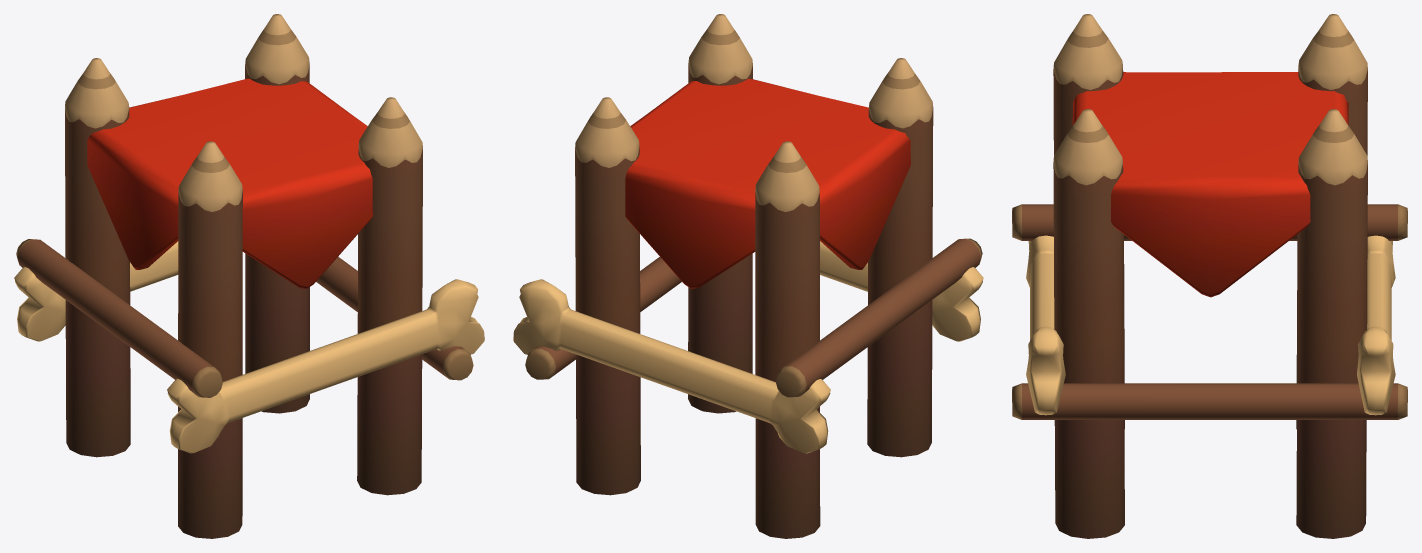
File: Stage_1.fbx
3 renders of one model, left to right at view 1: azimuth 30°, elevation 25°; view 2: azimuth 150°, elevation 25°; view 3: azimuth 270°, elevation 25°, orthographic. The views are drawn at different scales.
Visible parts, largest first — view 1: Stage_1; view 2: Stage_1; view 3: Stage_1.
Part boxes in pixels (left/top/right/bottom): Stage_1: left=14, top=14, right=484, bottom=538; Stage_1: left=513, top=14, right=983, bottom=538; Stage_1: left=1012, top=14, right=1407, bottom=538.
Size of the model in its own units: 142 by 167 by 145.
